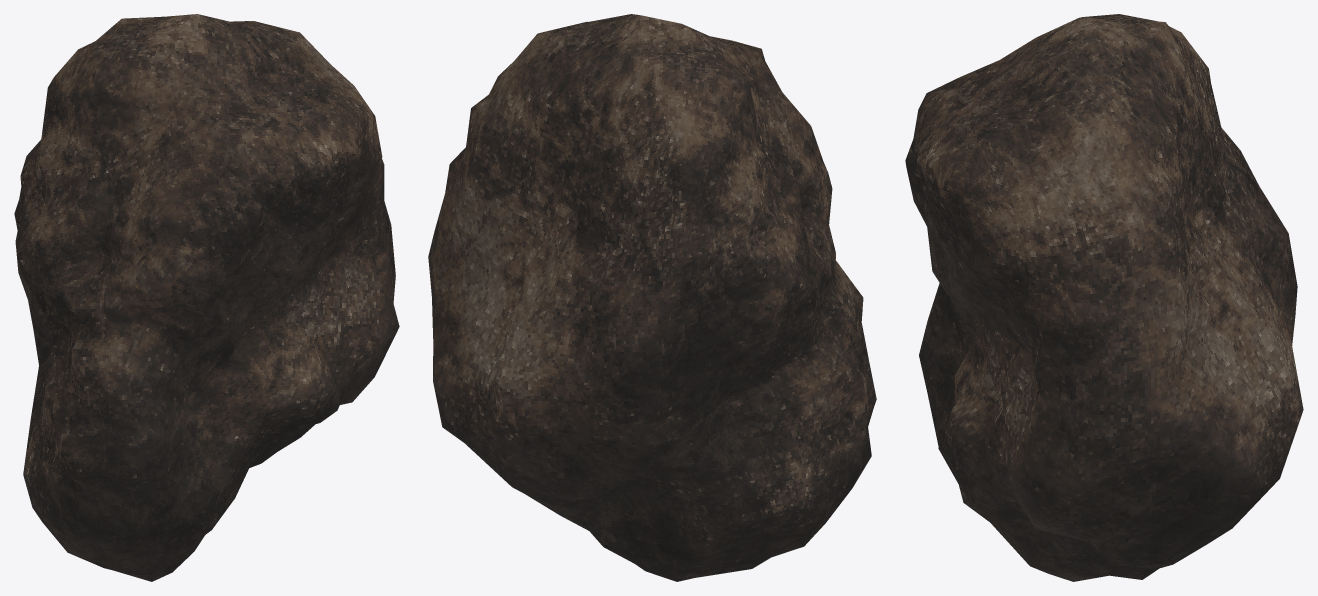
File: SM_RP2_Rock_4m_9.001.glb
3 views of the same model, side by side, from view 1: azimuth 30°, elevation 25°; view 2: azimuth 150°, elevation 25°; view 3: azimuth 270°, elevation 25° (orthographic). The views are drawn at different scales.
Visible parts, largest first — view 1: SM_RP2_Rock_4m_9.001; view 2: SM_RP2_Rock_4m_9.001; view 3: SM_RP2_Rock_4m_9.001.
Part boxes in pixels (left/top/right/bottom): SM_RP2_Rock_4m_9.001: left=14, top=14, right=399, bottom=581; SM_RP2_Rock_4m_9.001: left=428, top=14, right=876, bottom=581; SM_RP2_Rock_4m_9.001: left=905, top=14, right=1303, bottom=581.
Size of the model in its own units: 5.08 by 6.94 by 4.3.
Materials: 1 (1 with a texture image).
